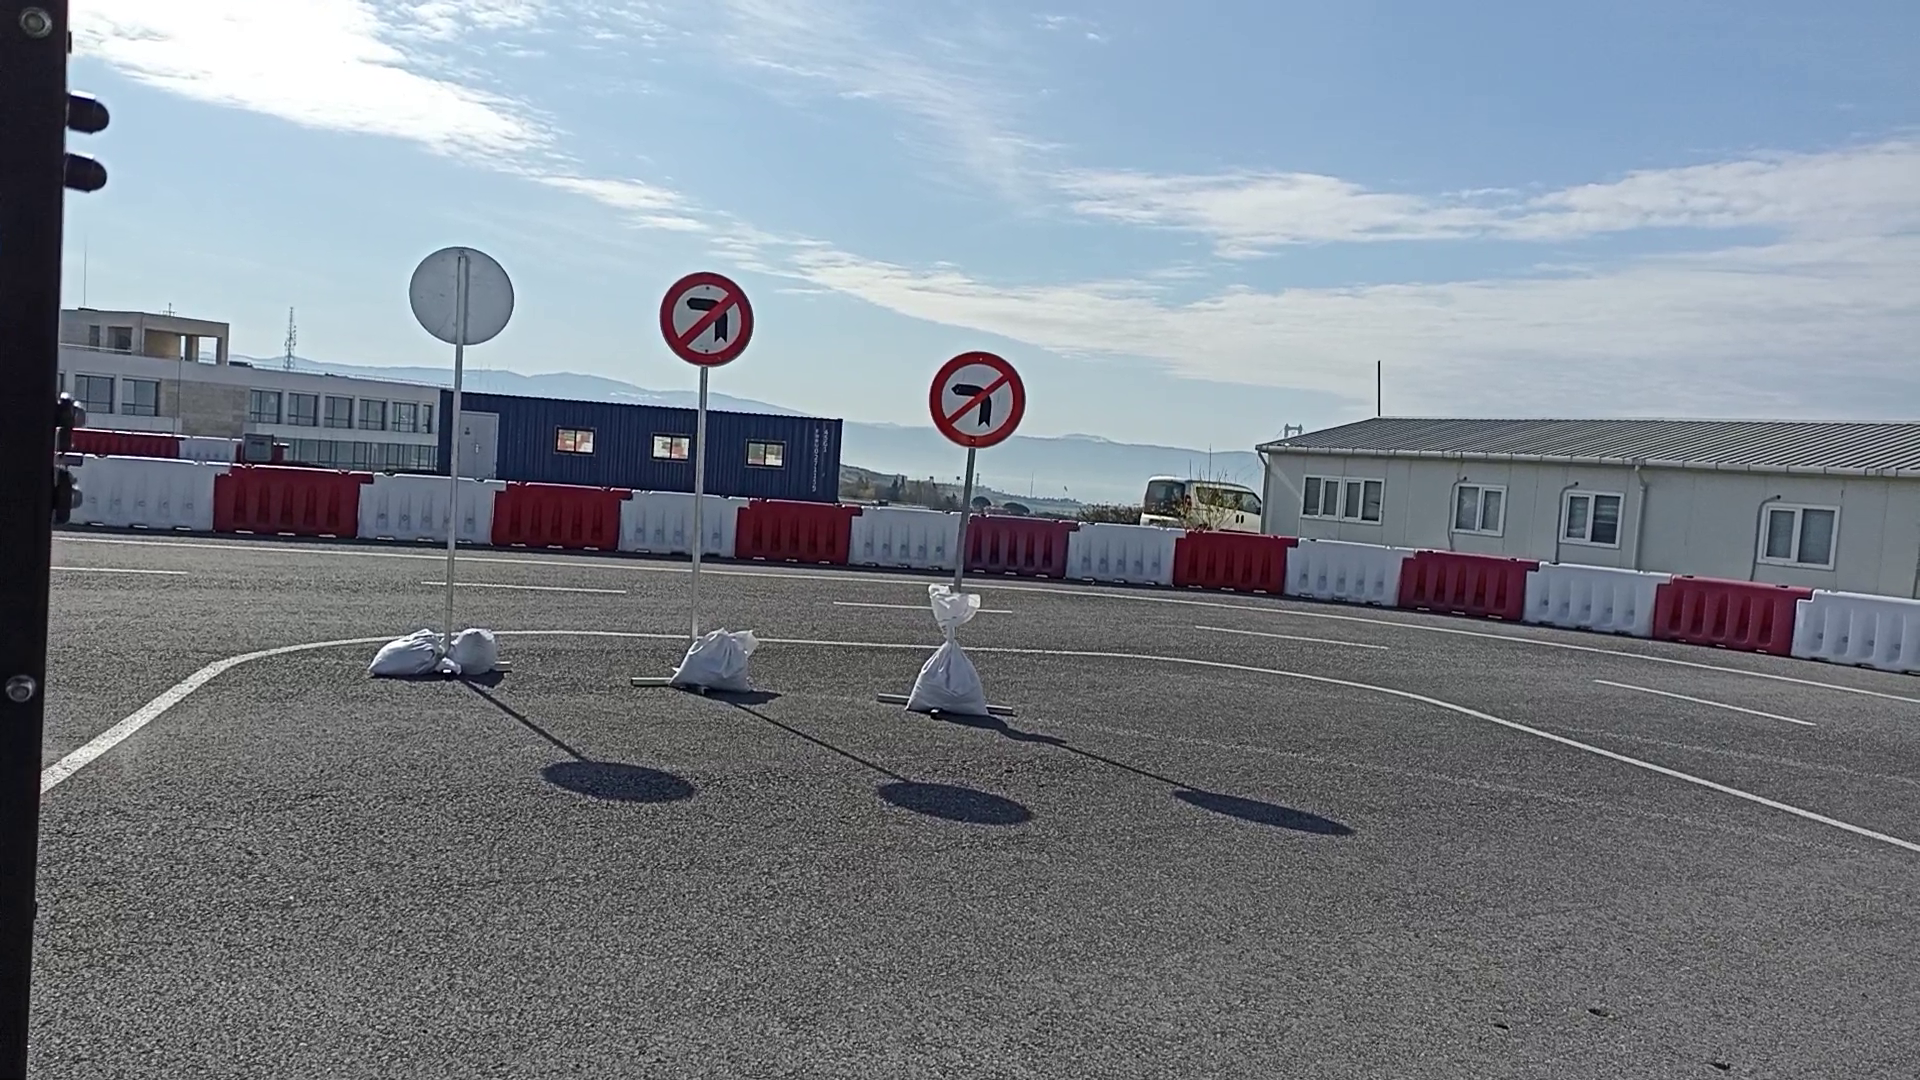noleft: (927, 351, 1027, 448), (658, 270, 756, 368)
